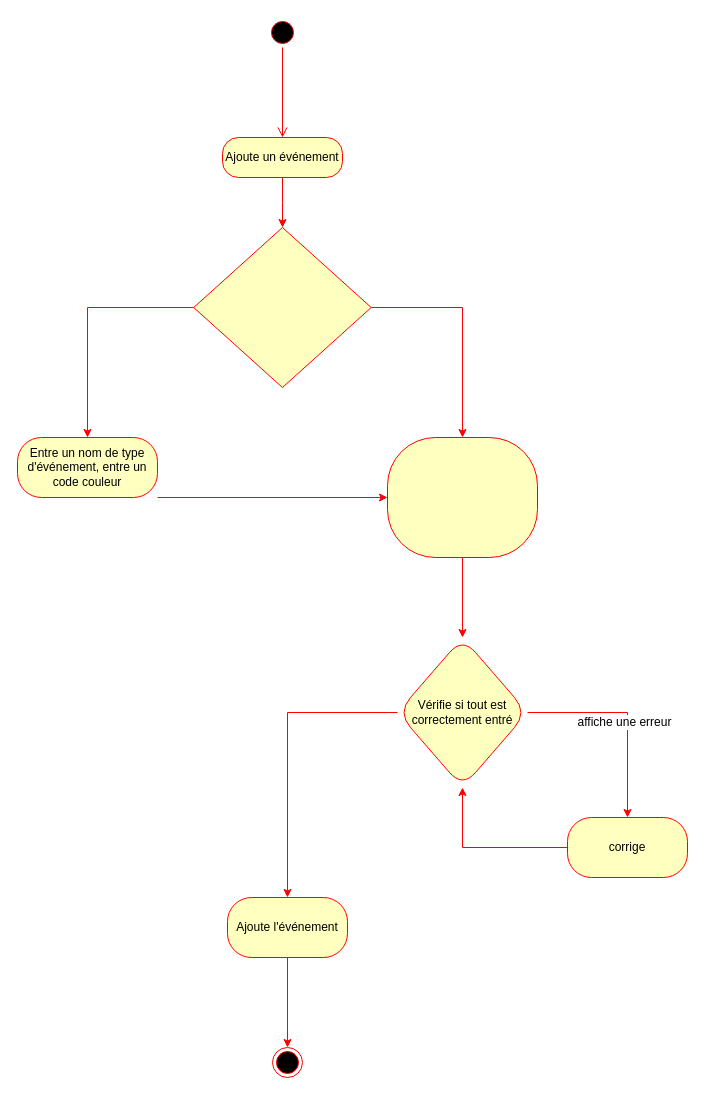
The diagram is 705 pixels wide and 1095 high, and some of its shapes have lost their labels. The shapes that lost their labels are listed below. From the top down, each one's centre as x and y in pixels, then its label:
[282,307]: vérifie si un type événement existe
[462,497]: Entre les données de l'événement objet,description heure début et fin
